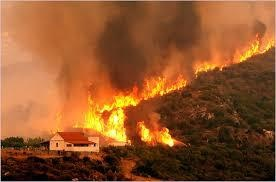fire: (76, 70, 186, 147)
